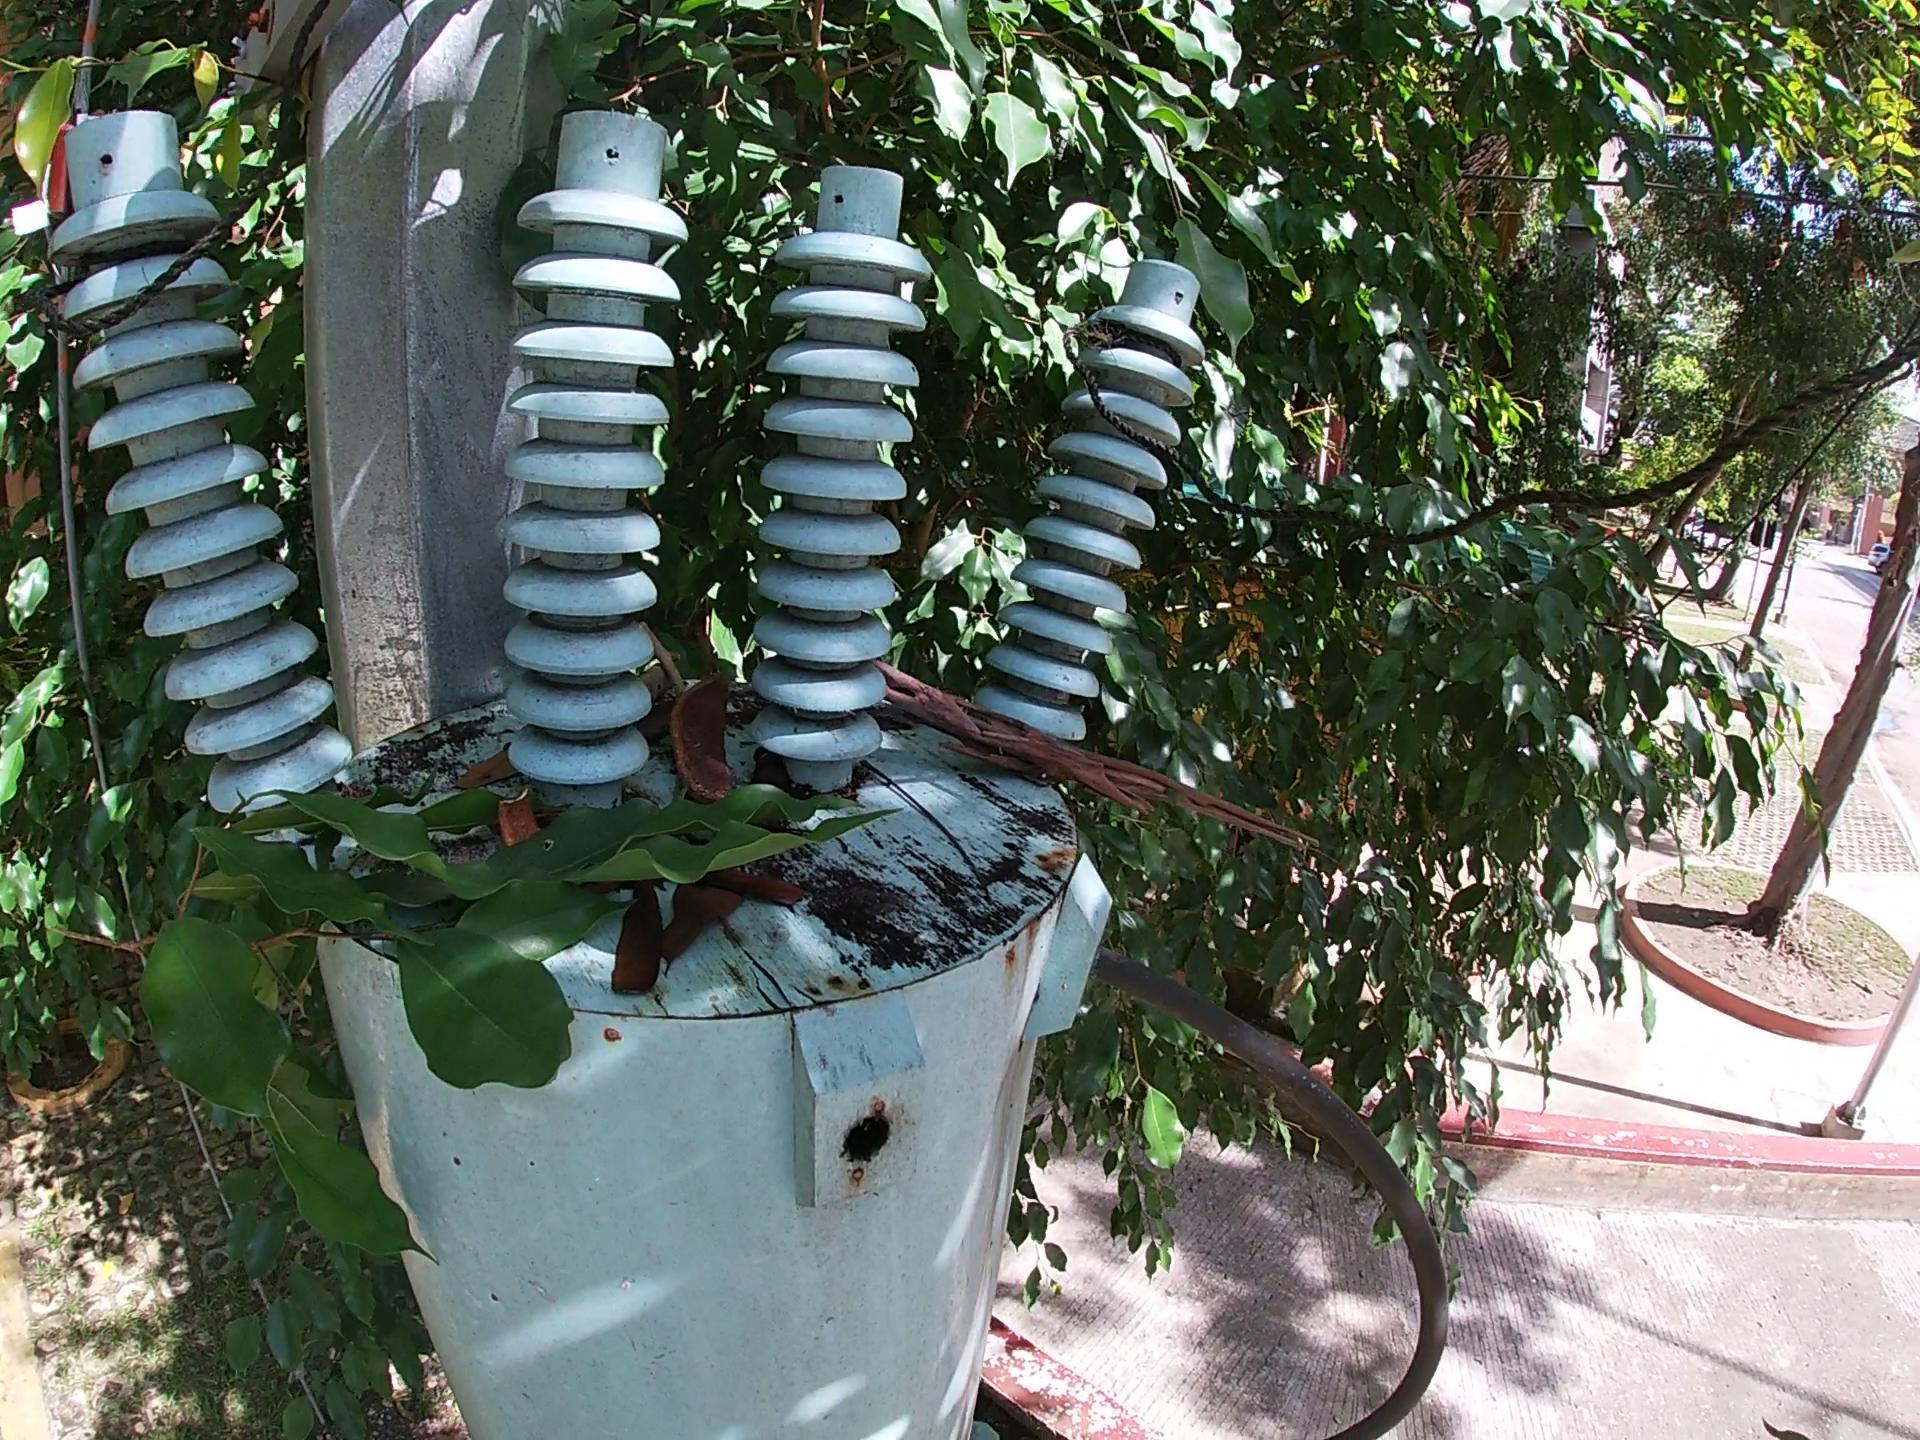branch with leaves: (112, 771, 909, 1277)
leaf: (656, 880, 744, 982), (608, 877, 670, 1004), (708, 868, 810, 909), (447, 743, 523, 796)
mahogany fruit: (667, 673, 745, 808), (491, 788, 544, 846)
tree branch: (872, 652, 1333, 867), (644, 622, 686, 694)
